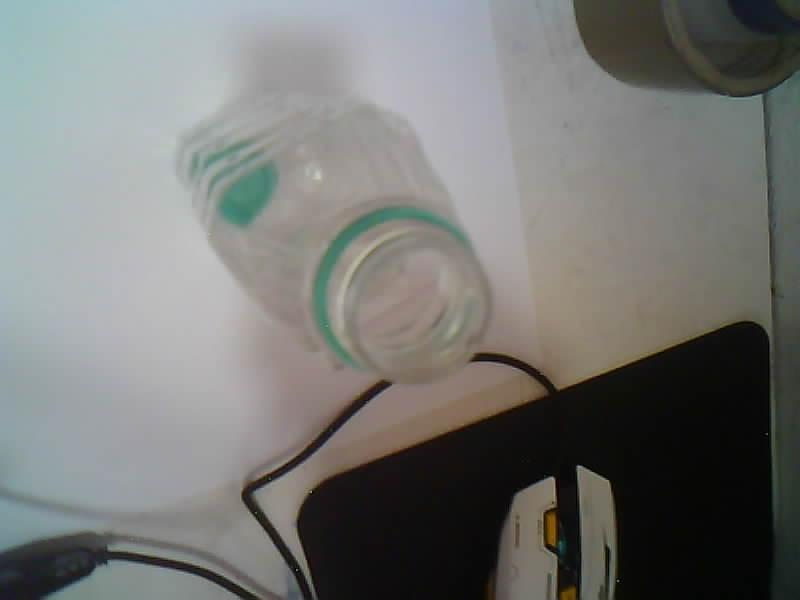non-biodegradable: (179, 93, 489, 381)
